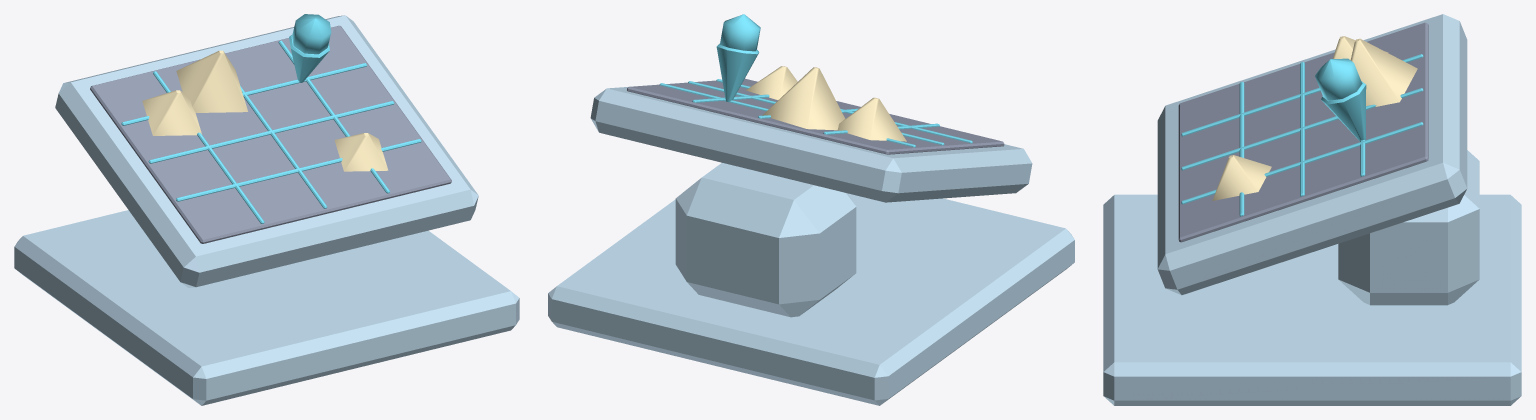
Rendered from R4X_Minimap_LOD1.glb.
3 renders of one model, left to right at view 1: azimuth 30°, elevation 25°; view 2: azimuth 150°, elevation 25°; view 3: azimuth 270°, elevation 25°, orthographic. The views are drawn at different scales.
Visible parts, largest first — view 1: R4X_Minimap_LOD1; view 2: R4X_Minimap_LOD1; view 3: R4X_Minimap_LOD1.
Part boxes in pixels (left/top/right/bottom): R4X_Minimap_LOD1: left=14, top=14, right=519, bottom=405; R4X_Minimap_LOD1: left=548, top=14, right=1074, bottom=405; R4X_Minimap_LOD1: left=1103, top=14, right=1521, bottom=405.
Bounding box in the file's own units: 0.52 × 0.403 × 0.52.
